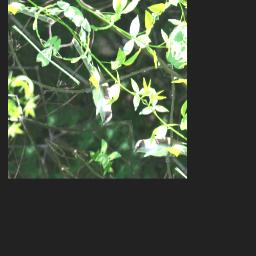Cuckoo: (44, 38, 133, 131)
